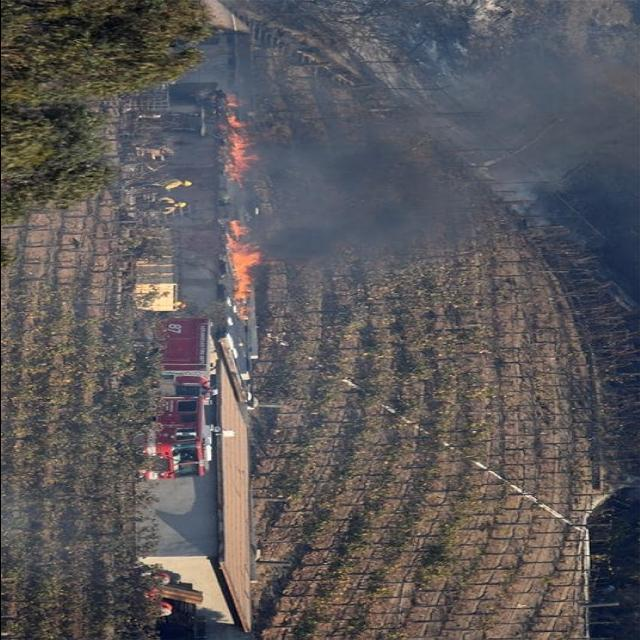Fire: (215, 102, 279, 187), (218, 218, 266, 304)
